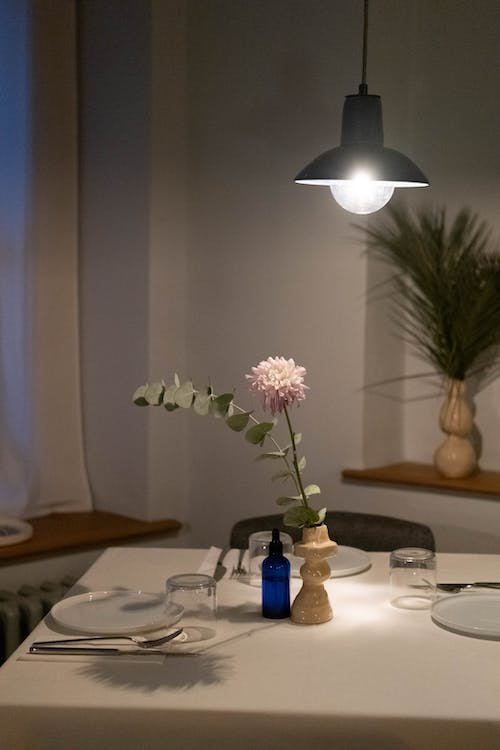knife: (29, 641, 207, 662)
